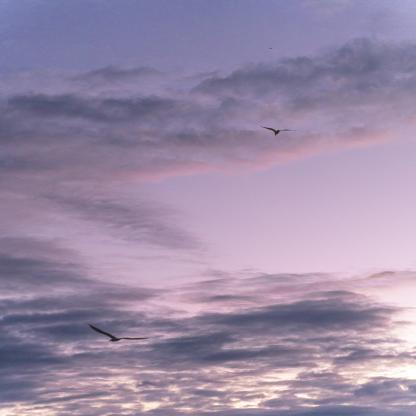bird: (88, 322, 150, 342), (262, 125, 296, 136)
